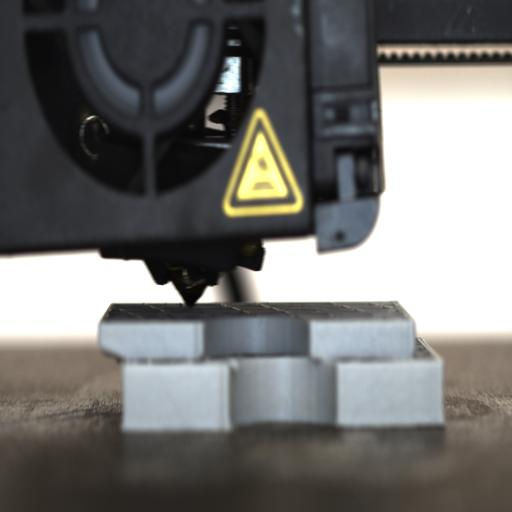layer_shift: (100, 343, 444, 367)
